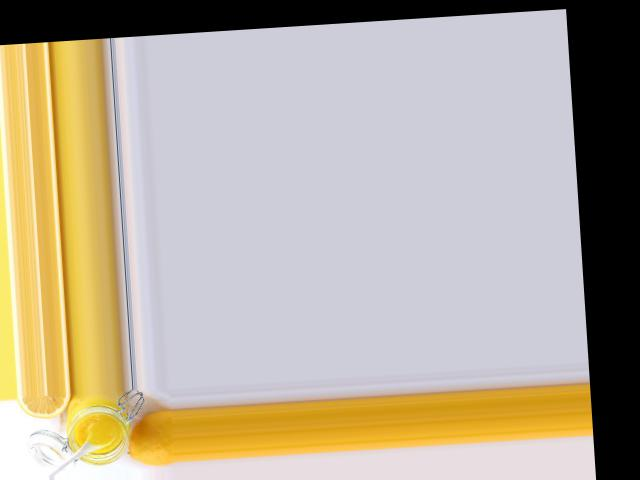lemon: (123, 410, 175, 465)
